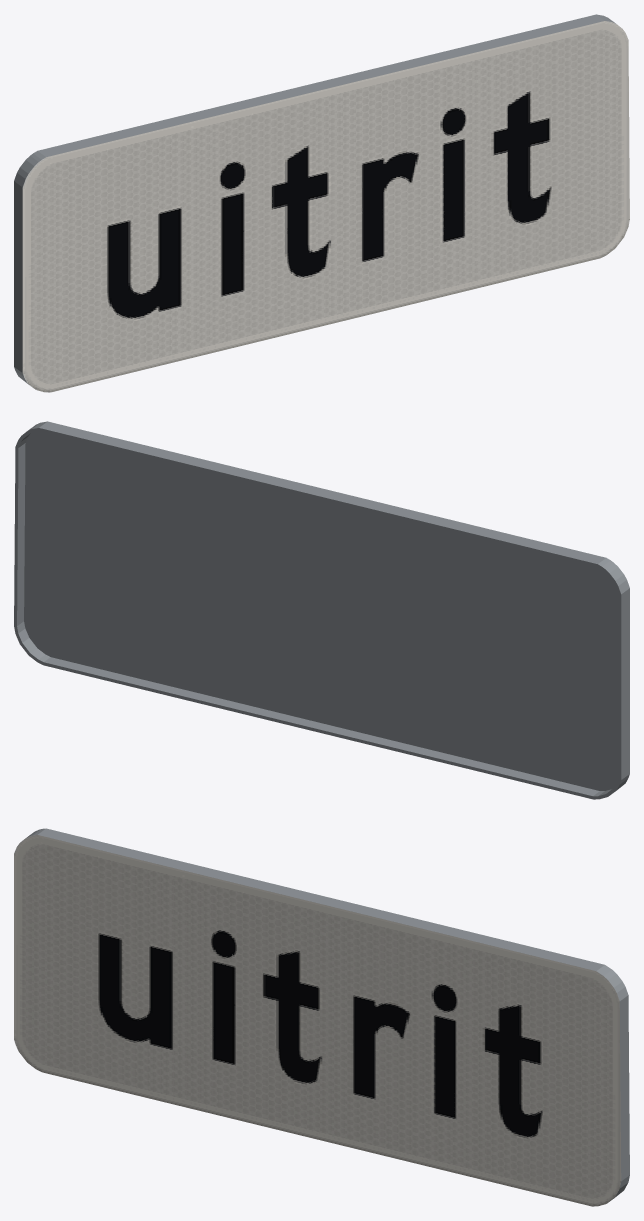
3 renders of one model, top to bottom at view 1: azimuth 30°, elevation 25°; view 2: azimuth 150°, elevation 25°; view 3: azimuth 330°, elevation 25°, orthographic.
Visible parts, largest first — view 1: cat_d136b229e9cccc32; view 2: cat_d136b229e9cccc32; view 3: cat_d136b229e9cccc32.
Part boxes in pixels (box(x1,y1,x2,y2)): cat_d136b229e9cccc32: box(14, 14, 629, 392); cat_d136b229e9cccc32: box(14, 421, 629, 799); cat_d136b229e9cccc32: box(14, 828, 629, 1206).
Size of the model in its own units: 0.6 by 0.015 by 0.2232.
Materials: 2 (1 with a texture image).
